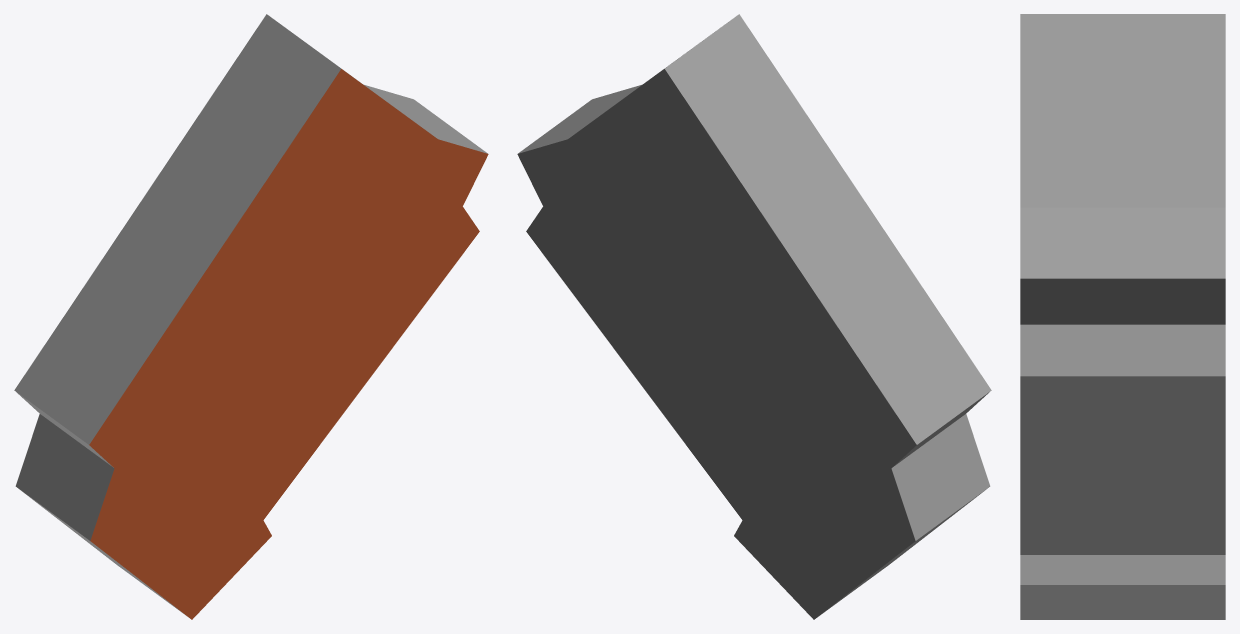
Rendered from construction_3310_assumed_A_Casa_h6m.obj.
3 views of the same model, side by side, from view 1: azimuth 30°, elevation 25°; view 2: azimuth 150°, elevation 25°; view 3: azimuth 270°, elevation 25° (orthographic). The views are drawn at different scales.
Visible parts, largest first — view 1: construction_3310_assumed_A_Casa; view 2: construction_3310_assumed_A_Casa; view 3: construction_3310_assumed_A_Casa.
Boxes of the visible parts, x1=… form: construction_3310_assumed_A_Casa: x1=14, y1=14, x2=488, y2=619; construction_3310_assumed_A_Casa: x1=517, y1=14, x2=991, y2=619; construction_3310_assumed_A_Casa: x1=1020, y1=14, x2=1225, y2=619.
Bounding box in the file's own units: 18.51 × 22.79 × 6.
